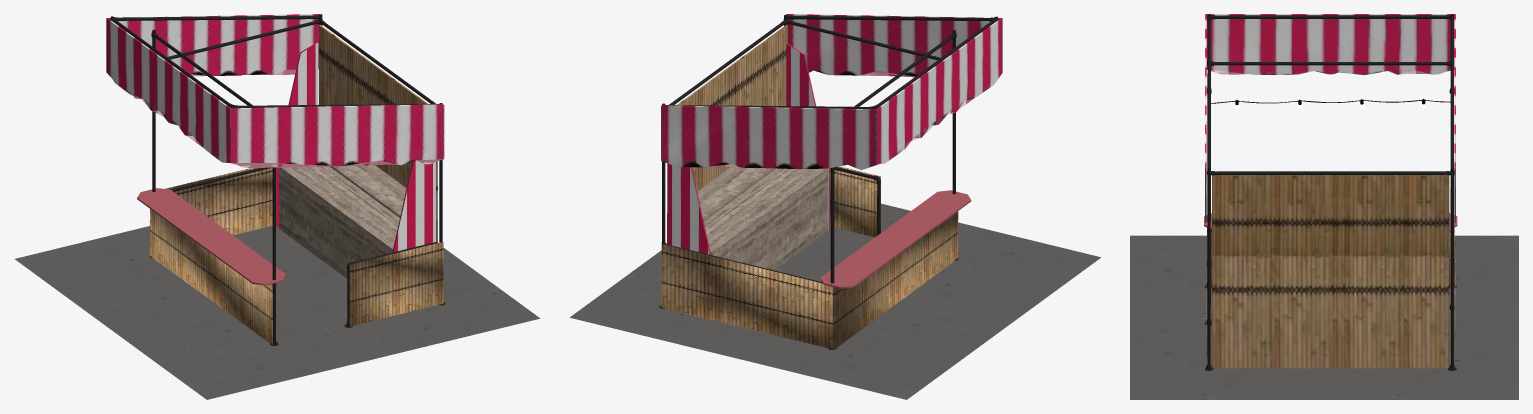
The model's file is market_stall.glb.
The picture shows the model from 3 angles, left to right: view 1: azimuth 30°, elevation 25°; view 2: azimuth 150°, elevation 25°; view 3: azimuth 270°, elevation 25°; orthographic projection.
Visible parts, largest first — view 1: Floor_1, Canopy, Front_panel, Lower_Left_side, Metal, Back_counter, Left_side, Lower_right_side, Counter_top_2, Counter_top, Side, Shelf (+1 smaller); view 2: Floor_1, Canopy, Lower_right_side, Front_panel, Metal, Back_counter, Left_side, Counter_top_2, Counter_top, SIde, Lower_Left_side, Shelf (+1 smaller); view 3: Left_side, Floor_1, Canopy, Metal, FESTOON_LIGHTS_7872_7873_STL_1_1.
Boxes of the visible parts, <box> form: Floor_1: <box>15,226,540,399</box>; Canopy: <box>106,14,444,167</box>; Front_panel: <box>149,209,272,344</box>; Lower_Left_side: <box>349,242,443,326</box>; Metal: <box>110,14,445,345</box>; Back_counter: <box>279,168,392,278</box>; Left_side: <box>319,25,437,242</box>; Lower_right_side: <box>150,168,272,235</box>; Counter_top_2: <box>137,188,286,285</box>; Counter_top: <box>279,166,399,250</box>; Side: <box>392,160,435,252</box>; Shelf: <box>330,165,406,217</box>; Floor_1: <box>570,203,1100,399</box>; Canopy: <box>661,14,1002,170</box>; Lower_right_side: <box>661,244,833,348</box>; Front_panel: <box>833,211,958,348</box>; Metal: <box>659,15,998,349</box>; Back_counter: <box>710,170,827,270</box>; Left_side: <box>677,25,787,190</box>; Counter_top_2: <box>820,190,971,288</box>; Counter_top: <box>703,168,827,253</box>; SIde: <box>667,163,710,254</box>; Lower_Left_side: <box>830,166,880,237</box>; Shelf: <box>697,167,775,221</box>; Left_side: <box>1212,174,1449,368</box>; Floor_1: <box>1130,235,1518,399</box>; Canopy: <box>1205,14,1455,222</box>; Metal: <box>1204,14,1456,370</box>; FESTOON_LIGHTS_7872_7873_STL_1_1: <box>1211,98,1450,109</box>.
Size of the model in its own units: 4 by 2.87 by 4.
14 materials, 10 textured.
